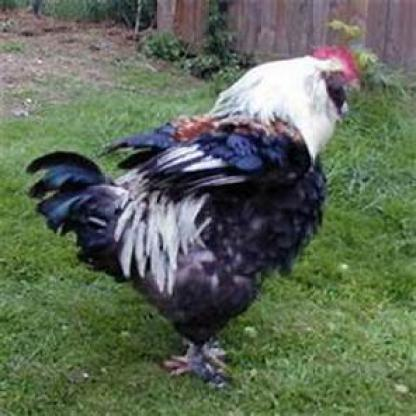chicken: (25, 44, 361, 378)
